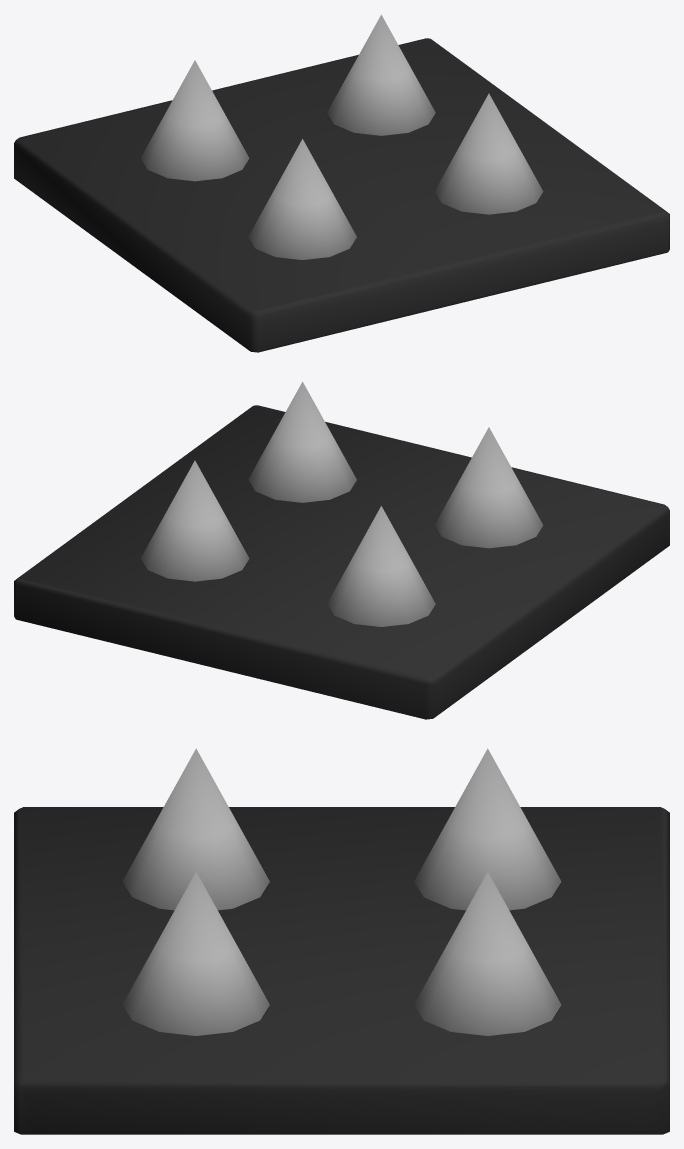
File: Trap.FBX
The picture shows the model from 3 angles, top to bottom: view 1: azimuth 30°, elevation 25°; view 2: azimuth 150°, elevation 25°; view 3: azimuth 270°, elevation 25°; orthographic projection. The views are drawn at different scales.
Visible parts, largest first — view 1: Trap; view 2: Trap; view 3: Trap.
Boxes of the visible parts, left/top/right/bottom form: Trap: left=14, top=14, right=669, bottom=352; Trap: left=14, top=381, right=669, bottom=719; Trap: left=14, top=748, right=669, bottom=1134.
Size of the model in its own units: 90 by 28.21 by 90.
